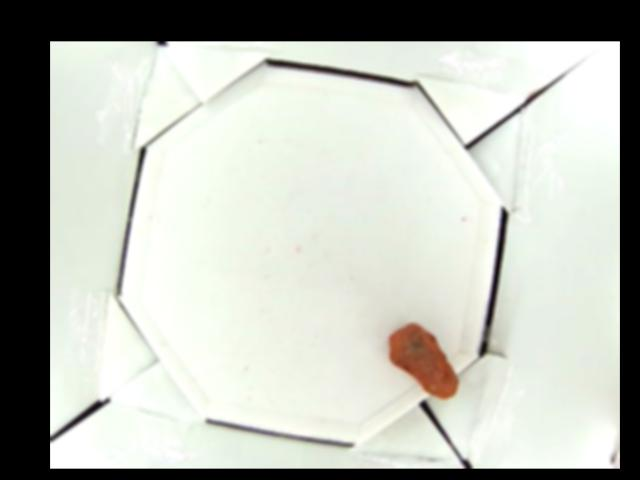Brisk: (387, 324, 462, 397)
